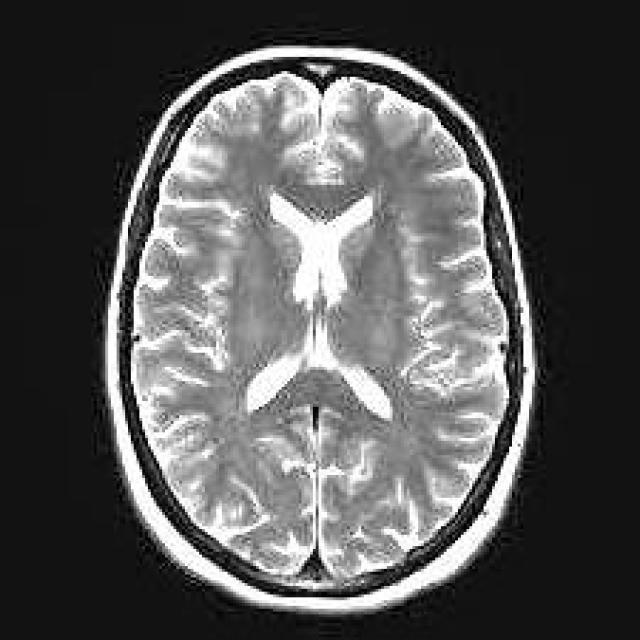No_Tumor: (106, 46, 535, 613)
